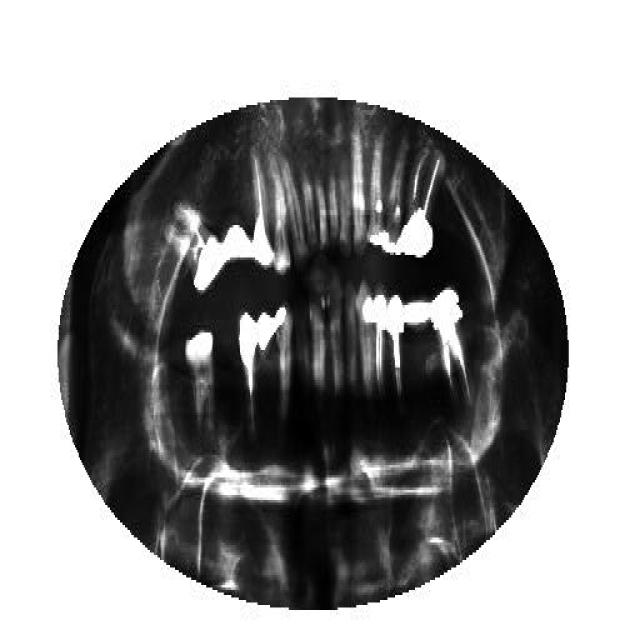Fillings: (168, 195, 228, 295), (382, 150, 402, 262), (355, 280, 373, 392), (258, 312, 278, 400), (403, 300, 432, 355), (368, 145, 383, 250), (278, 308, 292, 418), (225, 215, 254, 263)
Implant: (400, 150, 445, 260), (430, 287, 471, 405), (384, 290, 408, 408), (253, 160, 275, 270), (240, 308, 258, 438), (371, 290, 389, 395)
